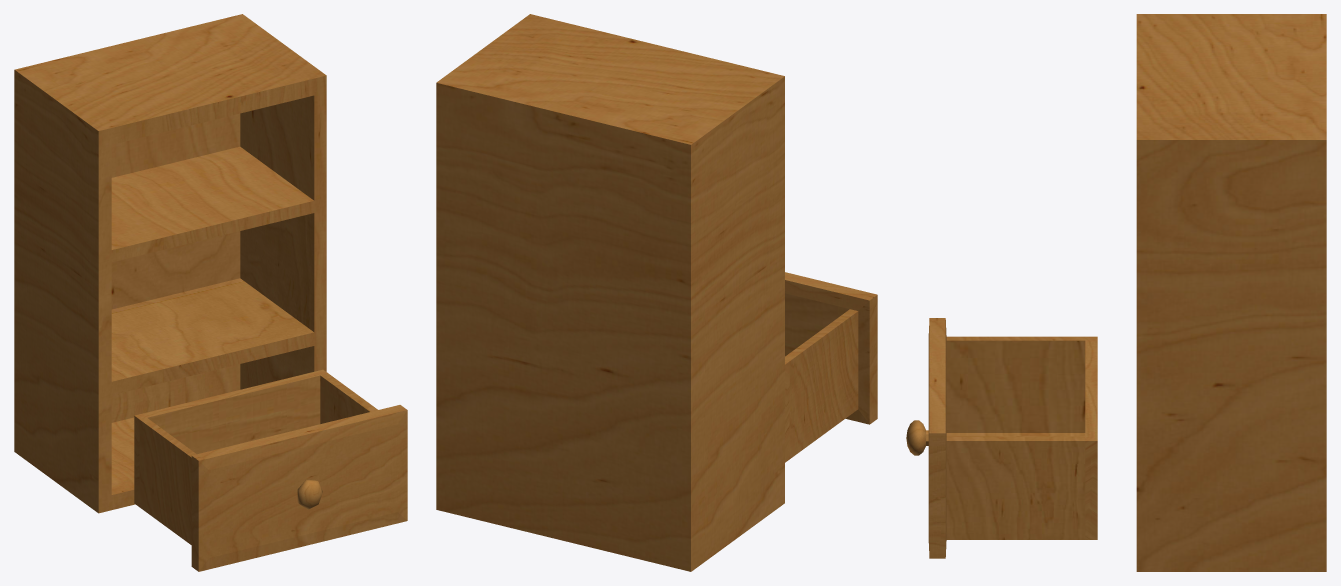
Rendered from Schrank.fbx.
The picture shows the model from 3 angles, left to right: view 1: azimuth 30°, elevation 25°; view 2: azimuth 150°, elevation 25°; view 3: azimuth 270°, elevation 25°; orthographic projection. The views are drawn at different scales.
Visible parts, largest first — view 1: schublade, schub1; view 2: schublade, schub1; view 3: schublade, schub1.
Part boxes in pixels (box(x1,y1,x2,y2)): schublade: box(14, 14, 326, 513); schub1: box(134, 369, 407, 571); schublade: box(436, 14, 784, 571); schub1: box(785, 272, 877, 462); schublade: box(1136, 14, 1326, 571); schub1: box(906, 318, 1097, 558).
Bounding box in the file's own units: 8.5 × 13.61 × 11.99.
